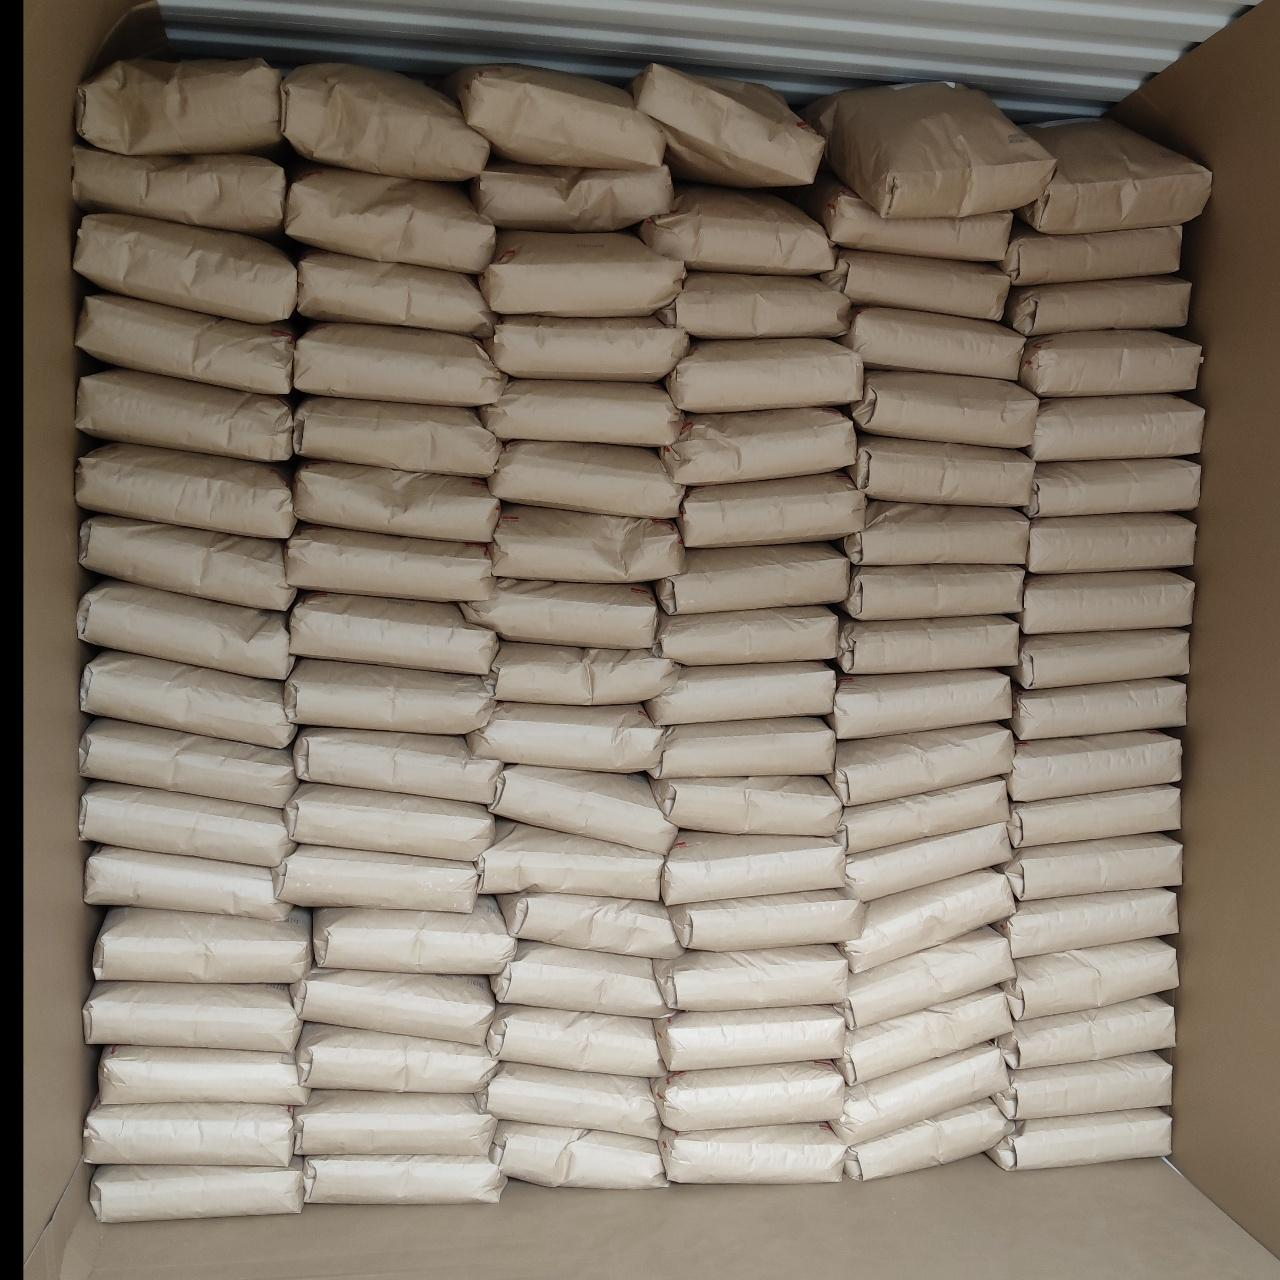sack: (802, 82, 1054, 214), (282, 64, 486, 180), (632, 66, 822, 186), (440, 66, 664, 166), (76, 216, 294, 318), (1018, 118, 1212, 230), (286, 166, 494, 270), (78, 580, 292, 678), (78, 294, 294, 390), (76, 444, 294, 534), (80, 516, 294, 606), (78, 370, 292, 460), (82, 652, 294, 742), (74, 146, 286, 234), (82, 720, 294, 806), (78, 60, 280, 150), (796, 176, 1010, 260), (294, 324, 502, 406), (832, 1044, 1006, 1142), (80, 782, 292, 862), (842, 870, 1014, 968), (842, 928, 1014, 1026), (838, 988, 1010, 1084), (298, 250, 494, 334), (294, 462, 498, 542), (480, 232, 684, 312), (640, 186, 832, 270), (94, 908, 310, 982), (490, 766, 674, 852), (296, 398, 498, 476), (286, 784, 492, 860), (286, 660, 494, 734), (292, 594, 494, 670), (294, 728, 500, 802), (316, 898, 514, 974), (288, 526, 494, 598), (662, 408, 854, 484), (830, 724, 1012, 804), (86, 846, 288, 918), (490, 442, 682, 516), (492, 506, 682, 580), (292, 970, 492, 1040), (848, 372, 1036, 446), (86, 982, 300, 1046), (680, 472, 864, 546), (478, 822, 662, 896), (668, 340, 862, 410), (845, 1099, 1013, 1179), (482, 380, 682, 446), (472, 164, 670, 230), (470, 704, 662, 772), (844, 823, 1011, 901), (298, 1024, 494, 1090), (274, 846, 476, 910), (656, 544, 846, 612), (1002, 940, 1176, 1014), (488, 316, 686, 380), (494, 942, 670, 1014), (998, 996, 1174, 1068), (664, 832, 844, 902), (464, 580, 654, 646), (484, 1062, 658, 1134), (822, 250, 1006, 318), (86, 1104, 294, 1164), (844, 308, 1022, 378), (850, 436, 1030, 504), (488, 1004, 662, 1074), (654, 1062, 844, 1126), (830, 670, 1008, 738), (838, 780, 1006, 852), (656, 1006, 844, 1070), (998, 890, 1174, 958), (658, 272, 850, 334), (1000, 834, 1180, 900), (296, 1090, 494, 1150), (92, 1164, 302, 1220), (992, 1052, 1170, 1118), (100, 1046, 306, 1102), (1020, 330, 1200, 394), (656, 946, 846, 1006), (1008, 732, 1180, 798), (490, 642, 676, 702), (498, 894, 678, 956), (1028, 396, 1202, 460), (670, 892, 862, 950), (842, 502, 1026, 562), (1000, 224, 1180, 284), (652, 776, 838, 834), (494, 1122, 662, 1186), (650, 664, 834, 722), (660, 1124, 844, 1182), (652, 718, 834, 776), (1006, 278, 1190, 334), (1010, 786, 1180, 846), (988, 1110, 1170, 1166), (658, 606, 838, 662), (1020, 572, 1192, 630), (1012, 680, 1184, 738), (1026, 458, 1198, 516), (836, 616, 1018, 670), (1014, 630, 1188, 686), (1028, 514, 1194, 572), (844, 566, 1022, 618), (304, 1156, 504, 1202)
